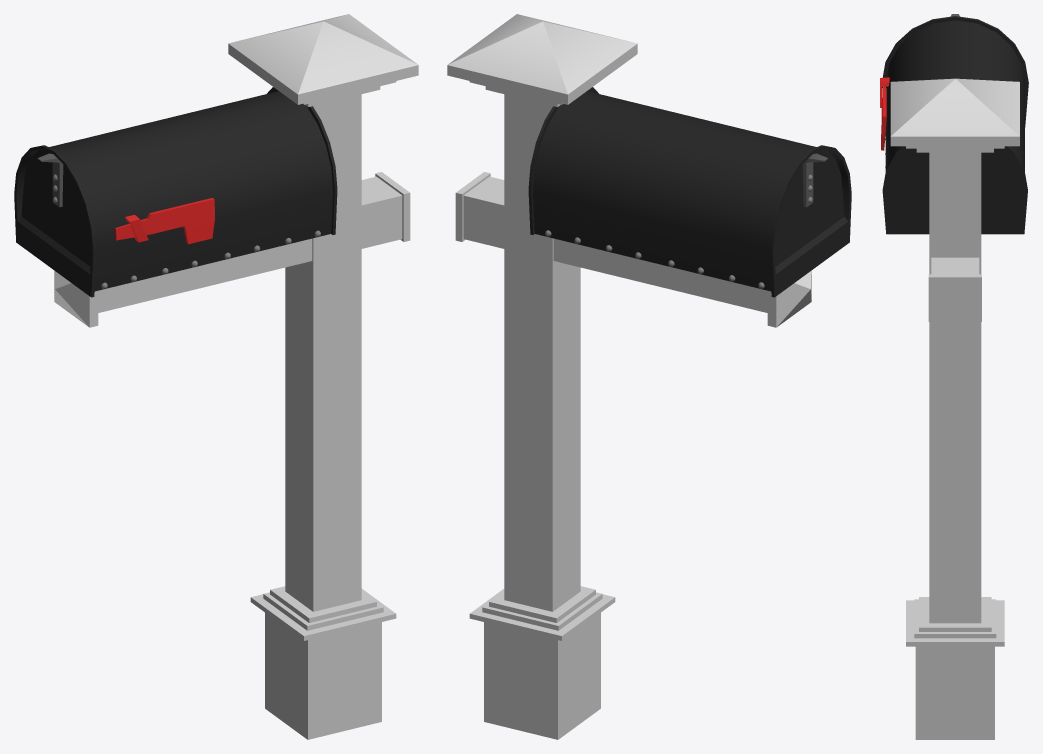
The model's file is low_poly_mailbox.glb.
3 views of the same model, side by side, from view 1: azimuth 30°, elevation 25°; view 2: azimuth 150°, elevation 25°; view 3: azimuth 270°, elevation 25° (orthographic). The views are drawn at different scales.
Parts seen in each view (by area): view 1: Object_6, Object_3, Object_2; view 2: Object_6, Object_3; view 3: Object_6, Object_3, Object_2.
Part boxes in pixels (<box>): Object_6: <box>54,14,418,739</box>; Object_3: <box>14,87,337,297</box>; Object_2: <box>114,198,215,244</box>; Object_6: <box>447,14,811,739</box>; Object_3: <box>528,87,851,297</box>; Object_6: <box>890,78,1019,739</box>; Object_3: <box>882,16,1028,234</box>; Object_2: <box>880,77,889,150</box>.
Size of the model in its own units: 8.77 by 16.32 by 3.41.
